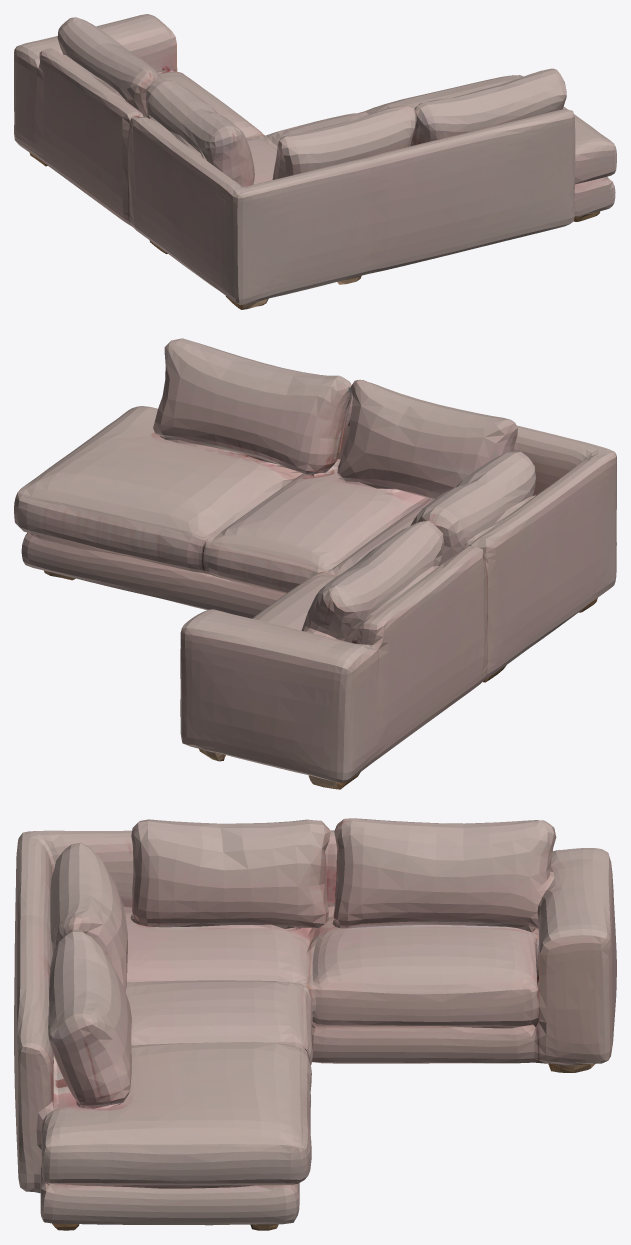
The model's file is sofa3.glb.
3 renders of one model, top to bottom at view 1: azimuth 30°, elevation 25°; view 2: azimuth 150°, elevation 25°; view 3: azimuth 270°, elevation 25°, orthographic. The views are drawn at different scales.
Parts seen in each view (by area): view 1: tripo_node_8d8a09c3-635e-415c-a593-86cc12cfd2ac; view 2: tripo_node_8d8a09c3-635e-415c-a593-86cc12cfd2ac; view 3: tripo_node_8d8a09c3-635e-415c-a593-86cc12cfd2ac.
Part boxes in pixels (left/top/right/bottom): tripo_node_8d8a09c3-635e-415c-a593-86cc12cfd2ac: left=14, top=14, right=616, bottom=309; tripo_node_8d8a09c3-635e-415c-a593-86cc12cfd2ac: left=14, top=338, right=616, bottom=789; tripo_node_8d8a09c3-635e-415c-a593-86cc12cfd2ac: left=14, top=818, right=616, bottom=1230.
Bounding box in the file's own units: 0.9936 × 0.359 × 0.9995.
Materials: 1 (1 with a texture image).
